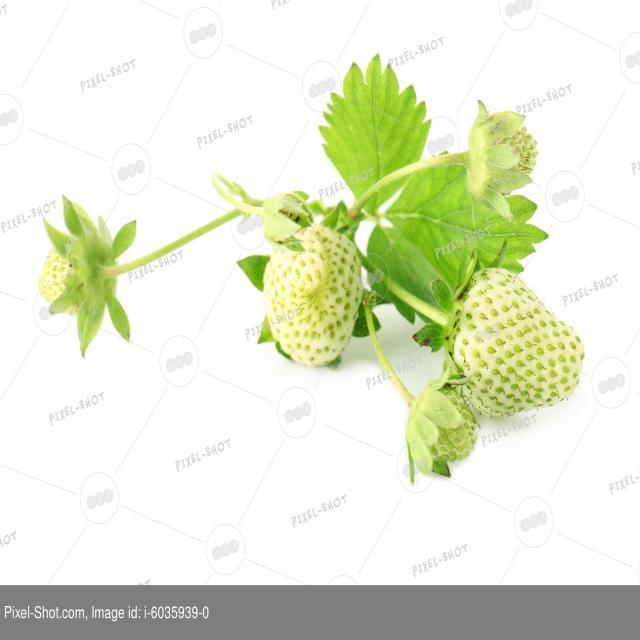strawberry: (452, 269, 584, 420), (264, 225, 363, 367), (38, 235, 116, 316), (471, 112, 538, 194), (410, 386, 474, 460)
